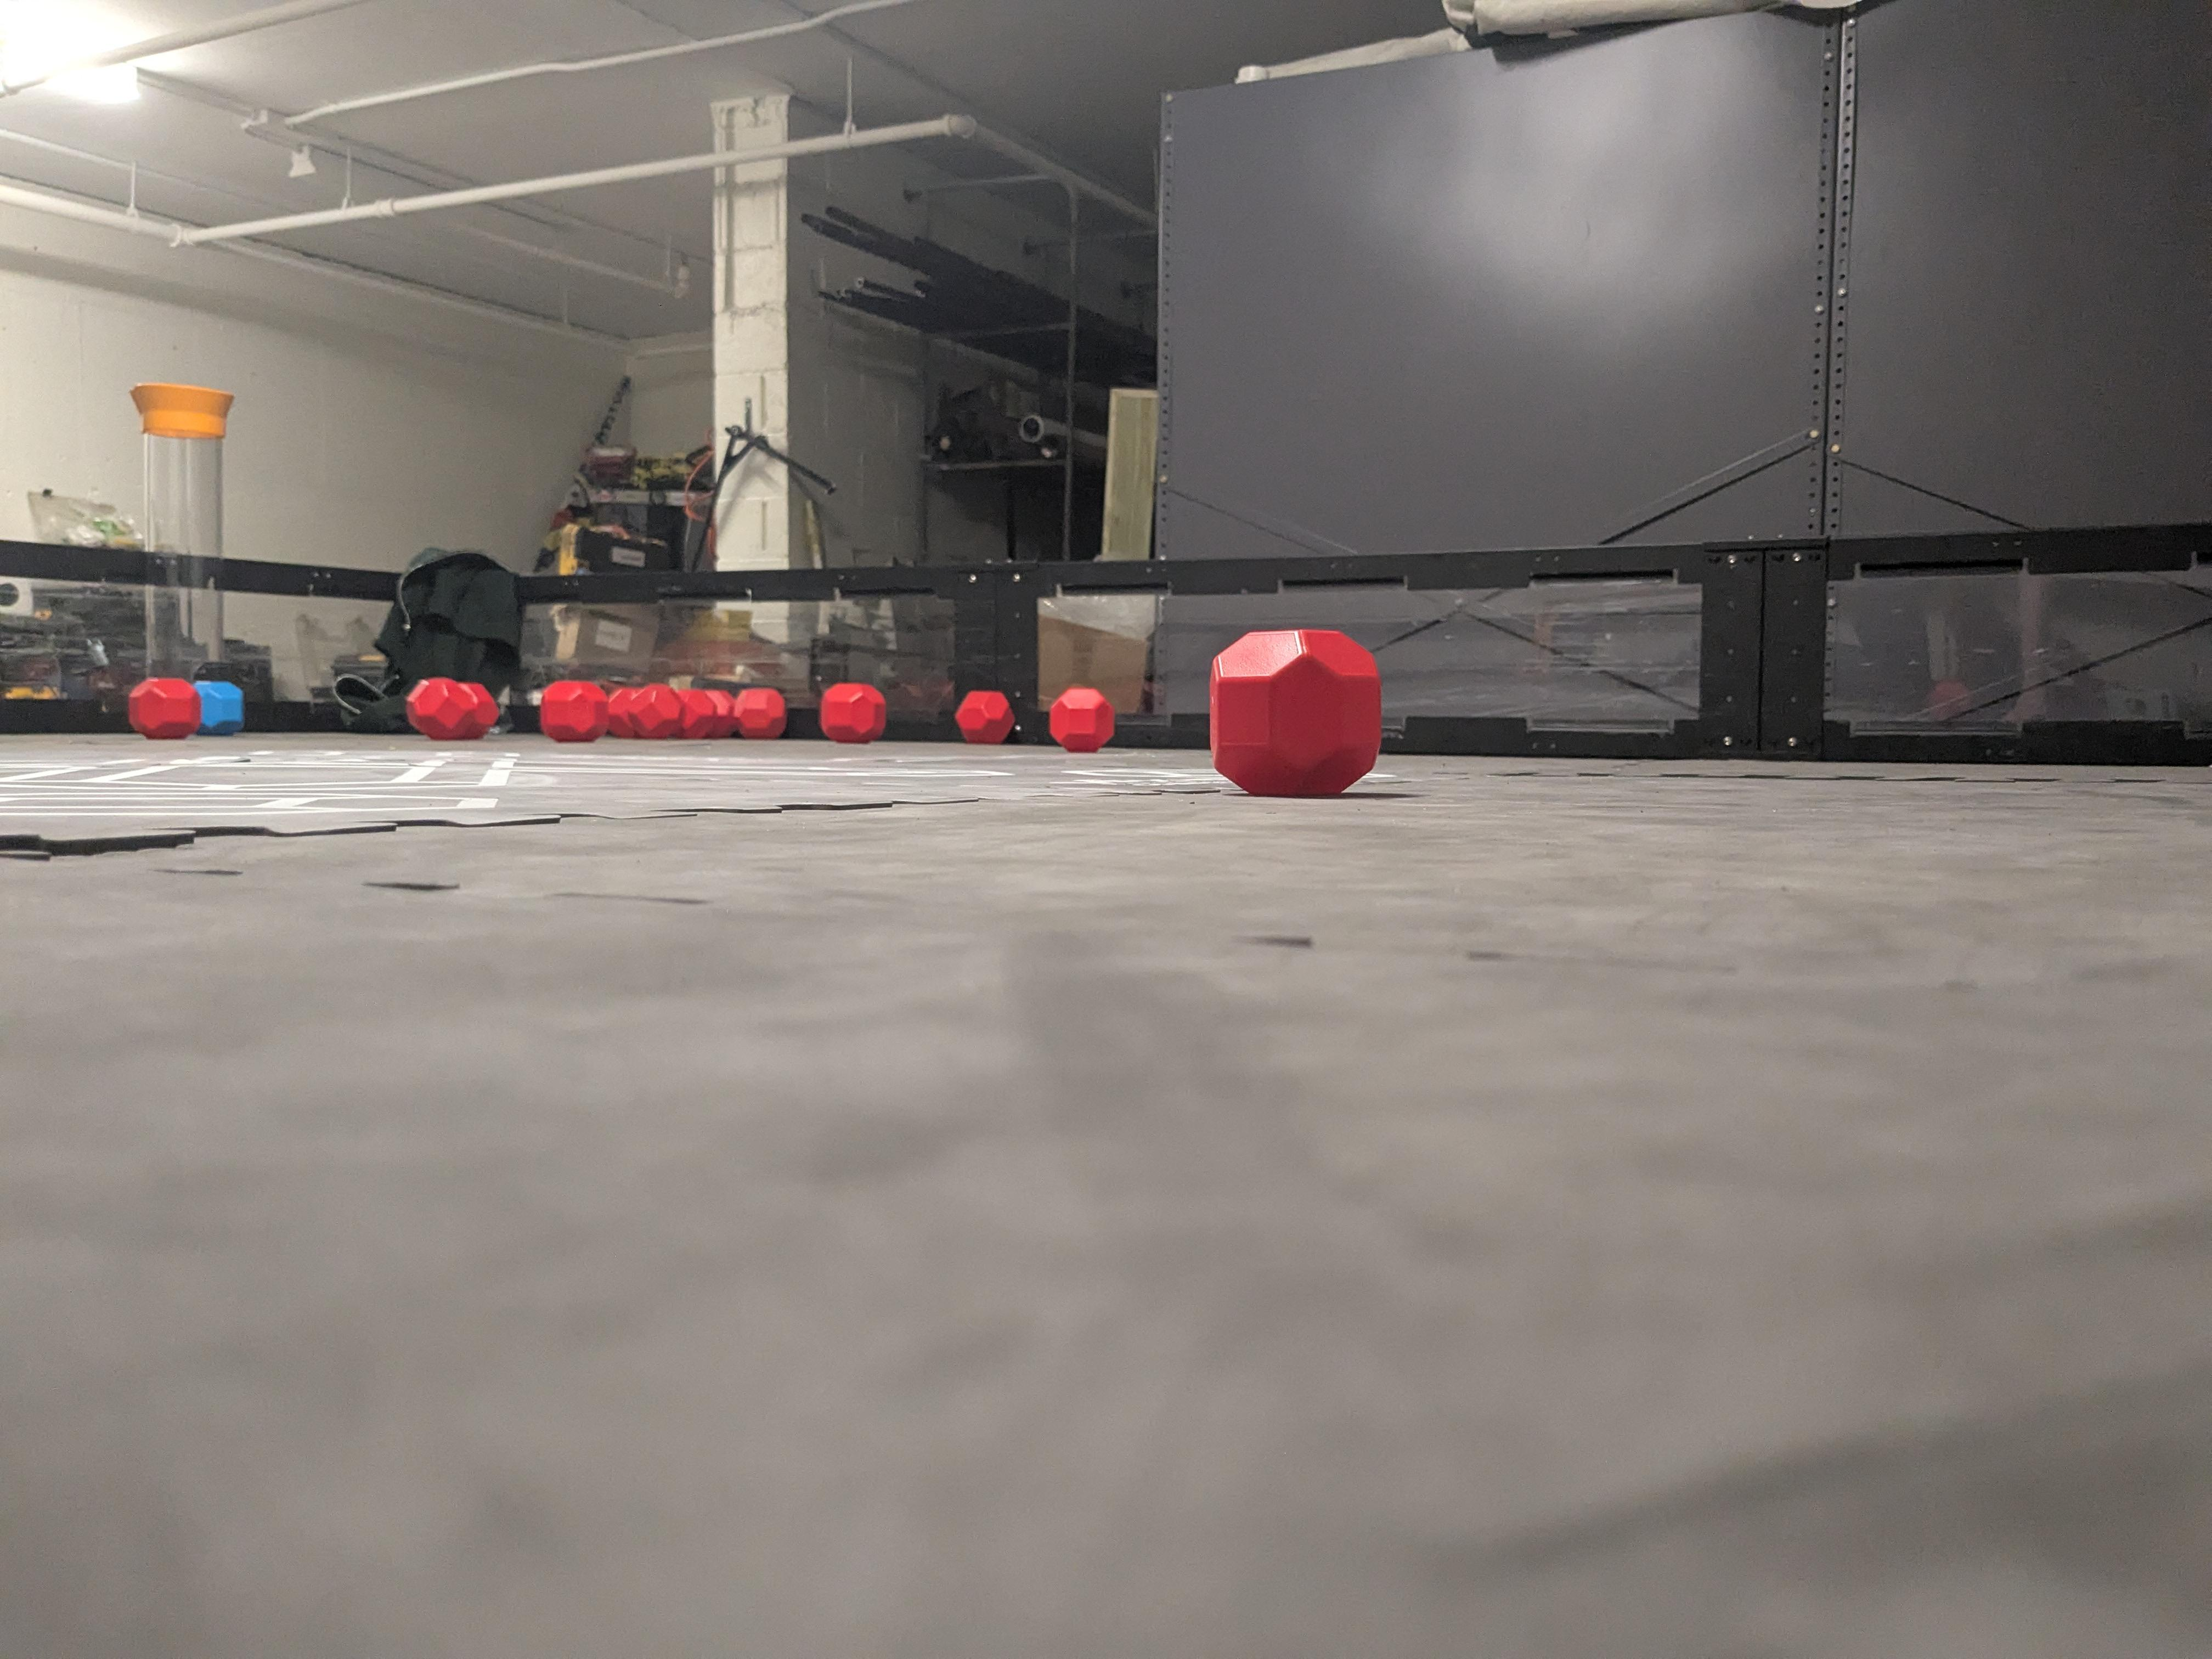Vex-Pieces-BLUE: (195, 680, 244, 735)
Vex-Pieces-RED: (1211, 631, 1378, 793), (406, 678, 500, 741), (127, 678, 200, 739), (1049, 687, 1115, 753), (540, 680, 608, 742), (819, 681, 887, 742), (608, 683, 681, 739), (956, 690, 1014, 744), (733, 687, 787, 739), (681, 688, 733, 739)
